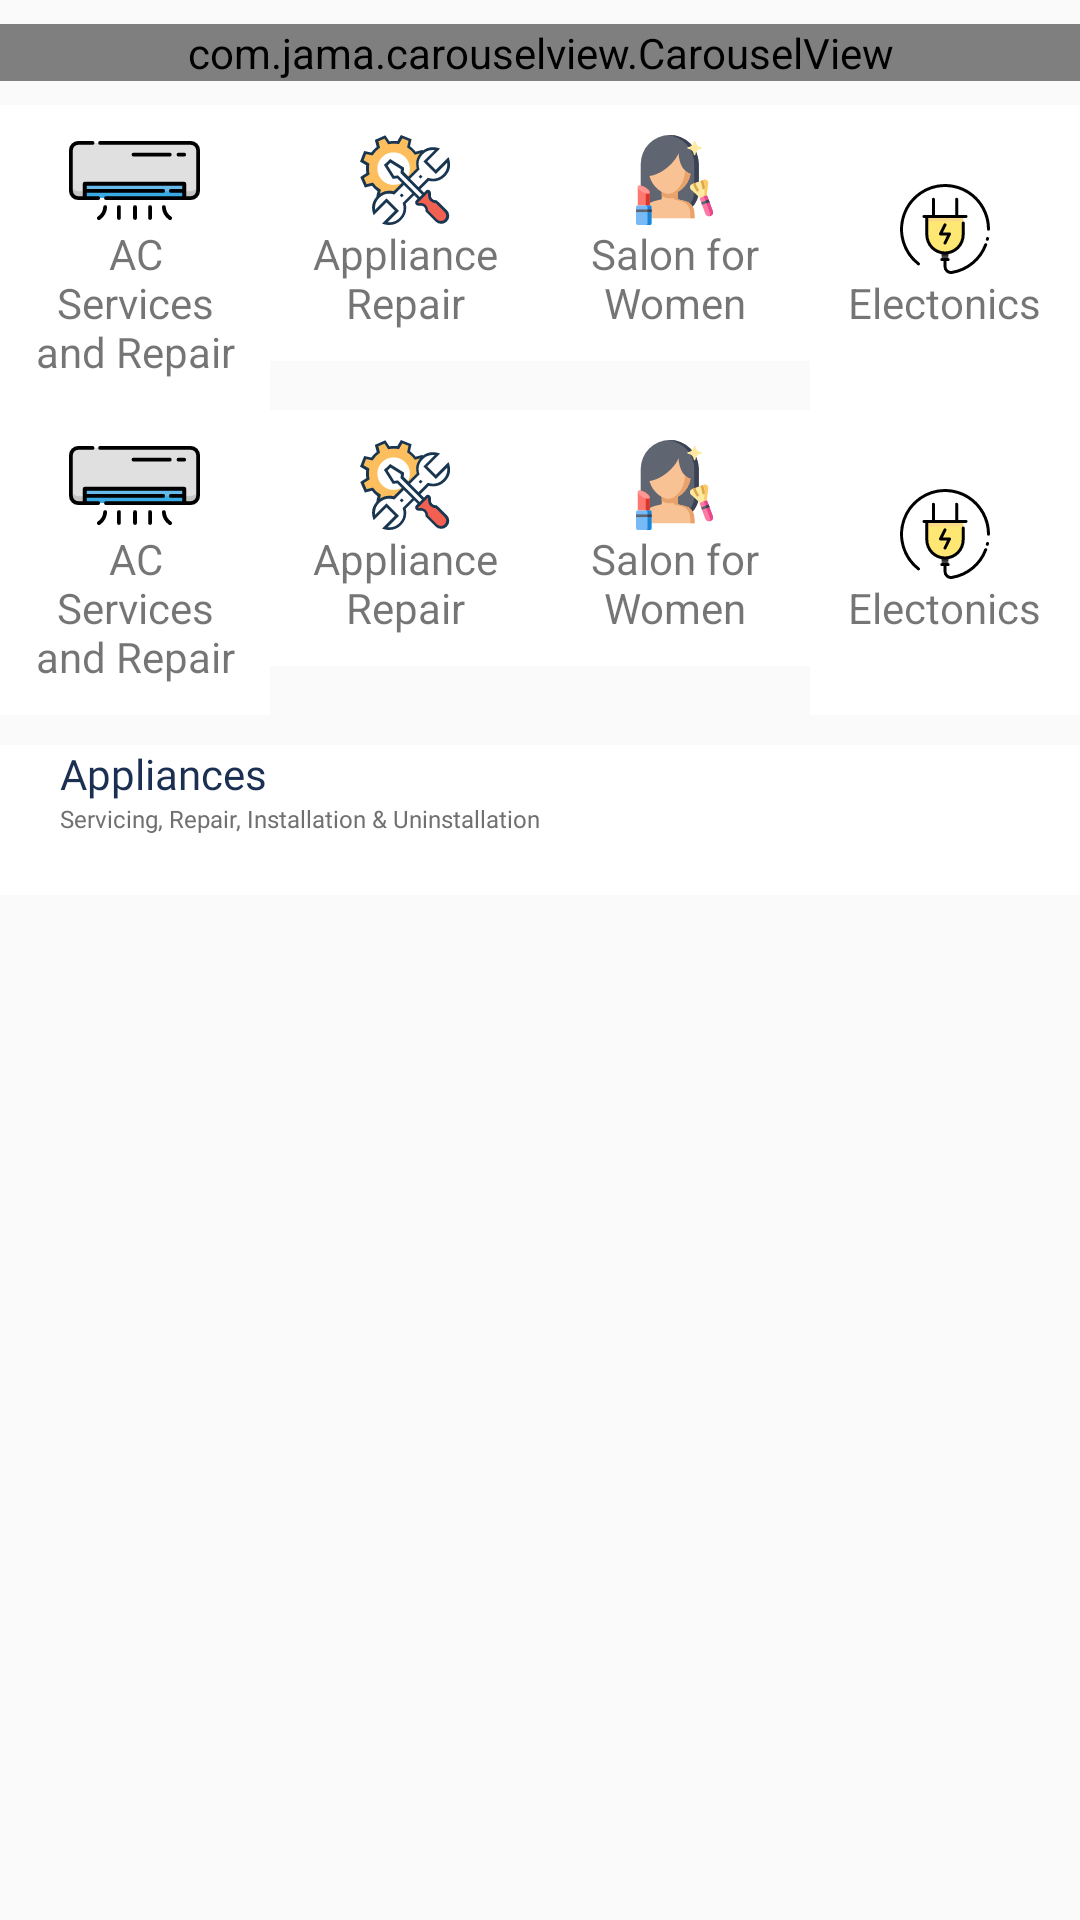

Screen size 1080px x 1920px. Icon name, then its box in pixels as box=[x1, y1, x2, y2]:
makeover: box=[636, 135, 713, 225], box=[636, 440, 713, 530]
plug: box=[900, 184, 990, 274], box=[900, 489, 990, 579]
settings: box=[360, 135, 450, 225], box=[360, 440, 450, 530]
